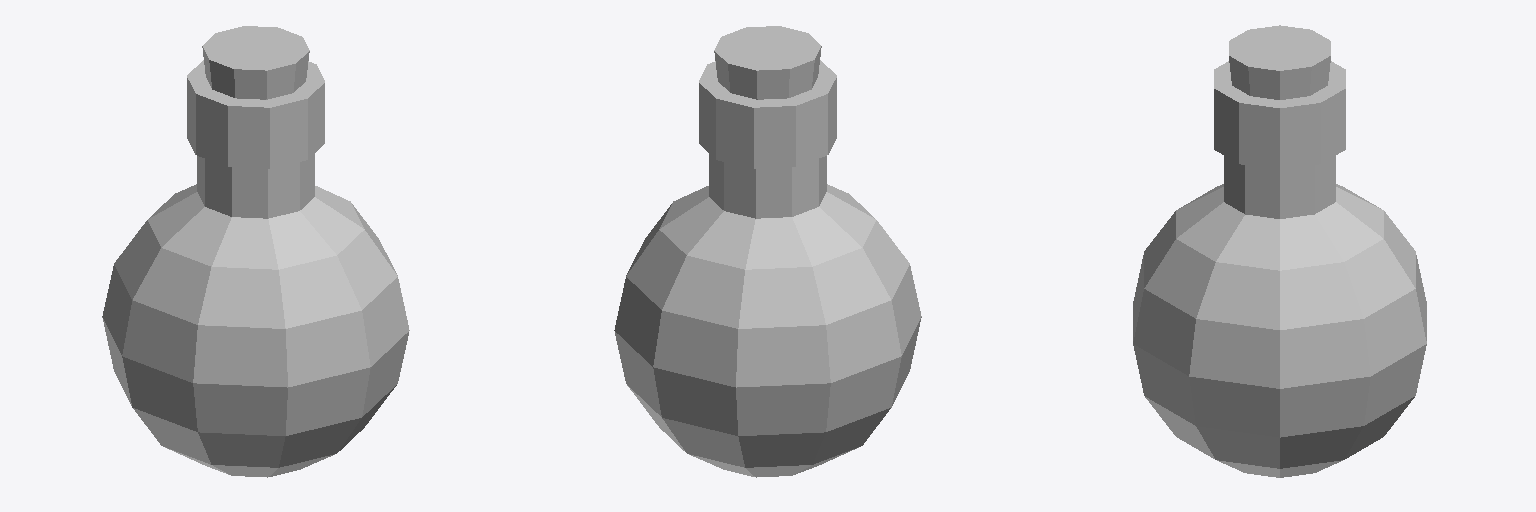
File: potion_5.obj
3 renders of one model, left to right at view 1: azimuth 30°, elevation 25°; view 2: azimuth 150°, elevation 25°; view 3: azimuth 270°, elevation 25°, orthographic.
Visible parts, largest first — view 1: potion_5_Sphere.000; view 2: potion_5_Sphere.000; view 3: potion_5_Sphere.000.
Boxes of the visible parts, x1=… form: potion_5_Sphere.000: x1=102, y1=26, x2=409, y2=477; potion_5_Sphere.000: x1=614, y1=26, x2=921, y2=477; potion_5_Sphere.000: x1=1133, y1=25, x2=1426, y2=477.
Bounding box in the file's own units: 2 × 2.97 × 1.9.